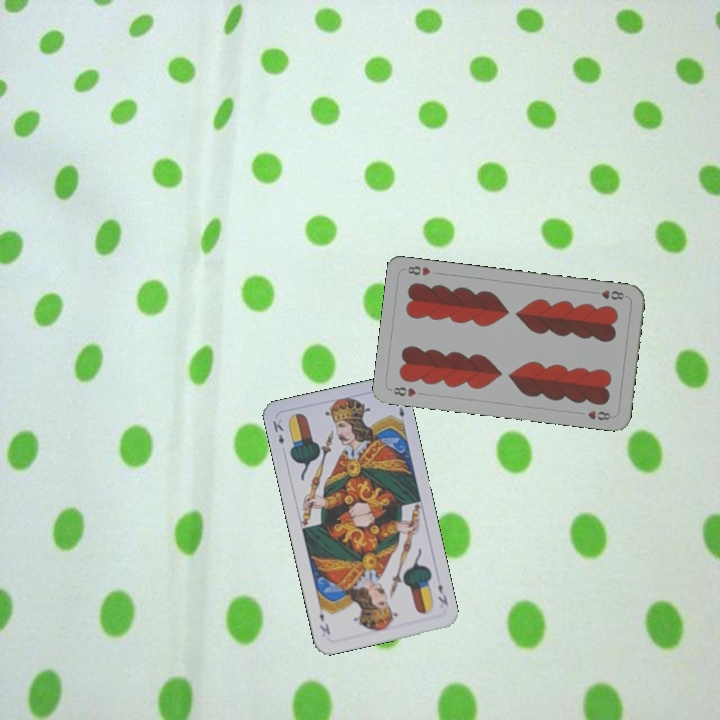EK: (268, 415, 287, 447), (433, 580, 451, 608)
H8: (387, 383, 418, 399), (597, 286, 627, 302)
